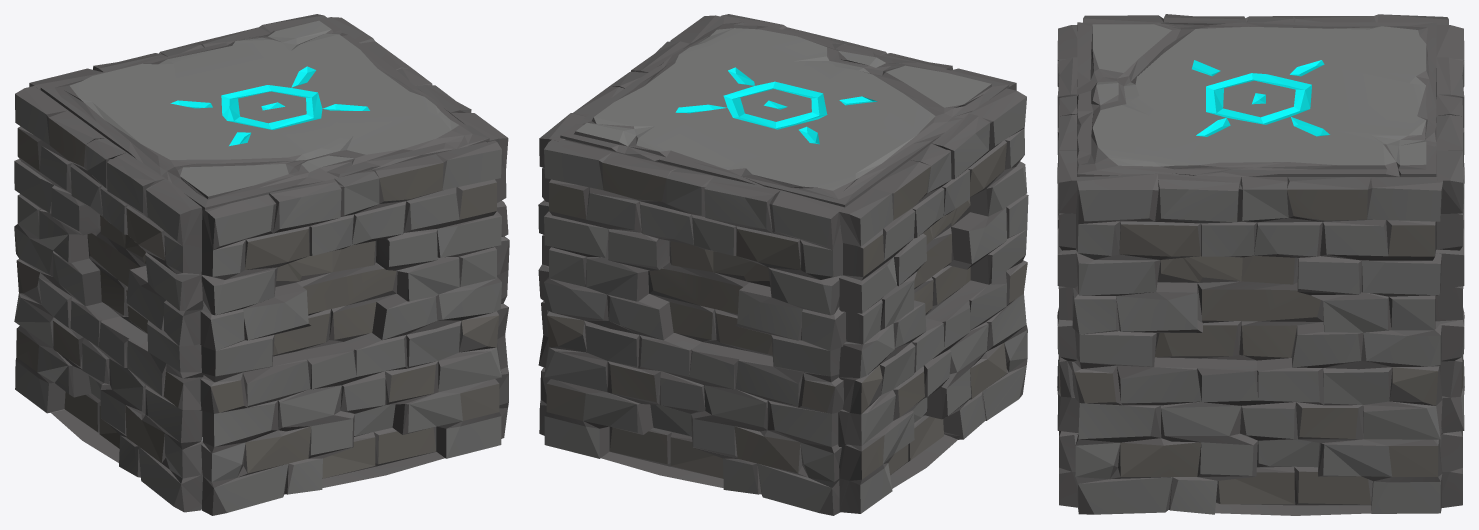
The model's file is SM_Env_Tiles_A_02.glb.
The picture shows the model from 3 angles, left to right: view 1: azimuth 30°, elevation 25°; view 2: azimuth 150°, elevation 25°; view 3: azimuth 270°, elevation 25°; orthographic projection. The views are drawn at different scales.
Visible parts, largest first — view 1: SM_Env_Tiles_A_02; view 2: SM_Env_Tiles_A_02; view 3: SM_Env_Tiles_A_02.
Boxes of the visible parts, left/top/right/bottom form: SM_Env_Tiles_A_02: left=14, top=14, right=509, bottom=515; SM_Env_Tiles_A_02: left=538, top=14, right=1028, bottom=515; SM_Env_Tiles_A_02: left=1057, top=14, right=1464, bottom=515.
Bounding box in the file's own units: 5.74 × 5.2 × 5.68.
1 material, 1 textured.
